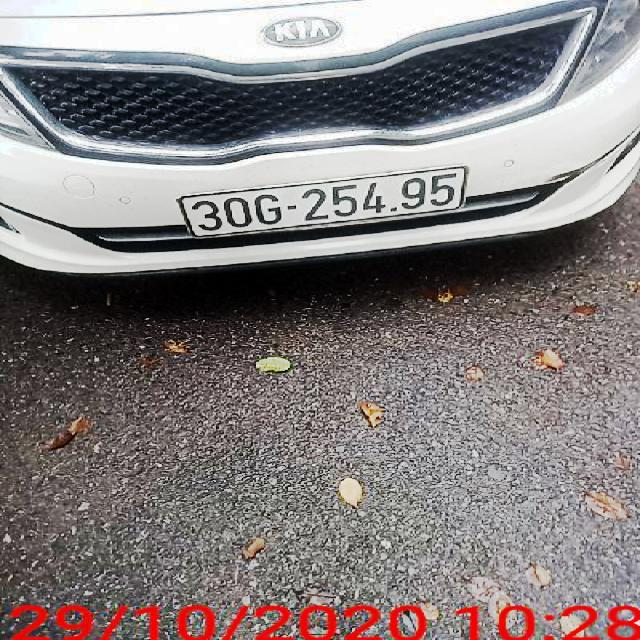license_plate: (179, 165, 471, 239)
